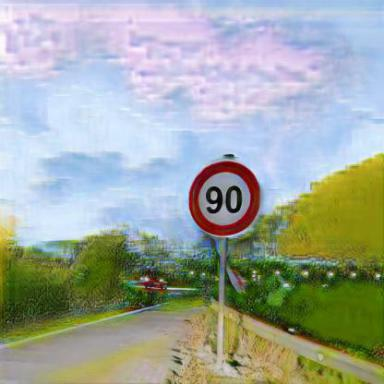Speed_limit_90: (187, 162, 261, 236)
